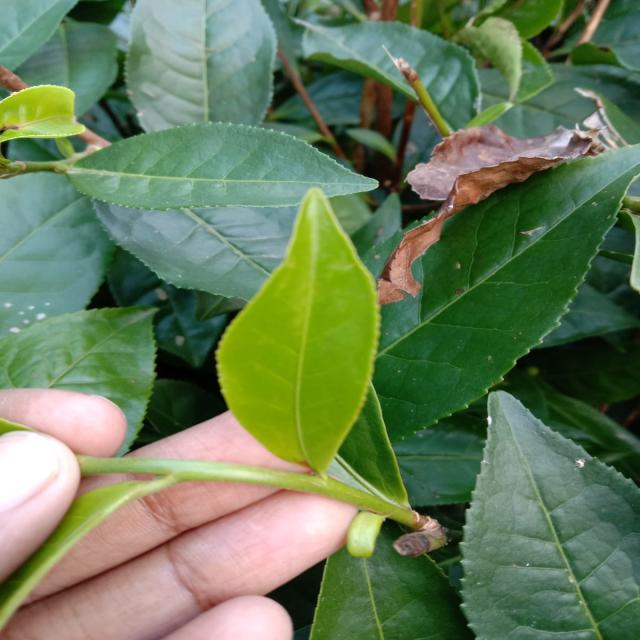Category C(4-7 days): (205, 171, 437, 484)
